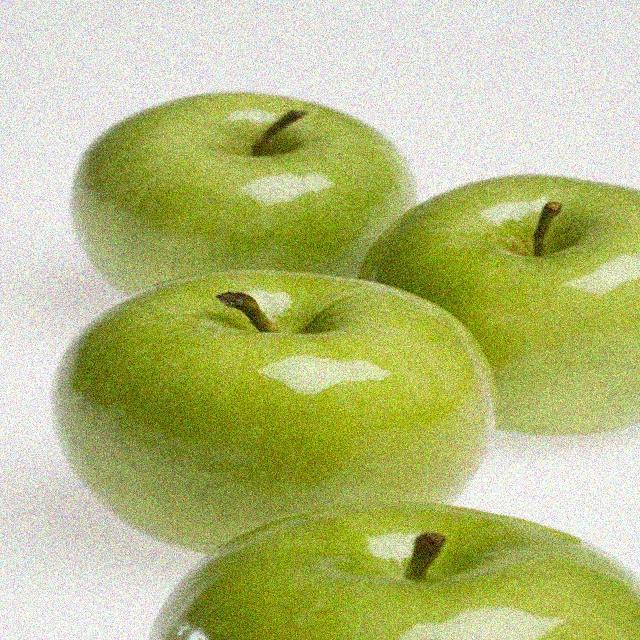green apple: (51, 270, 510, 560), (359, 170, 640, 439), (135, 501, 640, 640), (67, 88, 415, 285)
